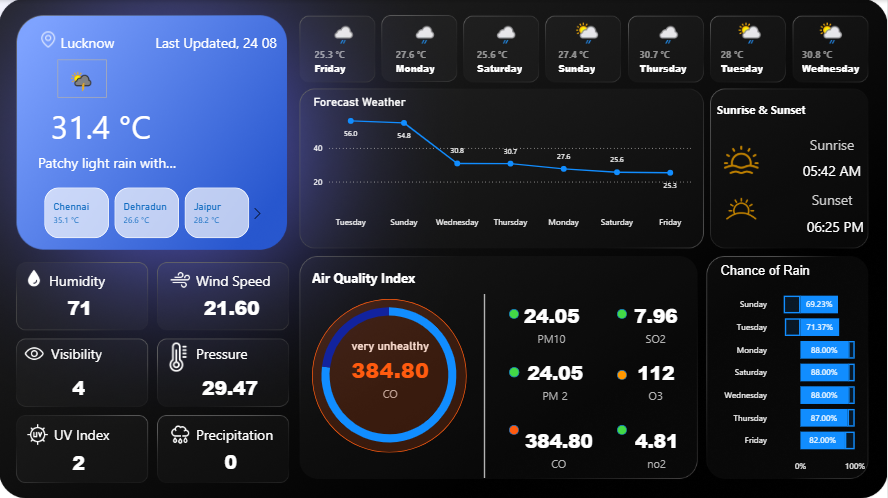

This screenshot's page, from the dashboard's own definition file:
{"tool":"powerbi","page":{"name":"Page 1","canvas":[1280,720],"ordinal":0},"visuals":[{"type":"advancedSlicerVisual","fields":{"Values":["locations.location.name"]},"box":[40.3,265,347,83.5],"z":0},{"type":"shape","box":[72,145.4,149.8,72],"z":1000},{"type":"shape","box":[40.3,40.3,174.2,40.3],"z":2000},{"type":"shape","box":[214.6,40.3,195.8,40.3],"z":3000},{"type":"image","box":[50.4,40.3,41.8,33.1],"z":4000},{"type":"shape","box":[56.2,207.4,227.5,51.8],"z":5000},{"type":"cardVisual","fields":{"Data":["Min(Current.current.condition.icon)"]},"box":[78.5,80.1,81.7,66],"z":6000},{"type":"image","box":[28.8,488.2,43.2,41.8],"z":7000},{"type":"shape","box":[74.9,488.2,106.6,40.3],"z":8000},{"type":"image","box":[28.8,383,43.2,34.6],"z":9000},{"type":"shape","box":[72,383,106.6,40.3],"z":10000},{"type":"image","box":[239,604.8,44.6,41.8],"z":11000},{"type":"image","box":[31.7,604.8,49,41.8],"z":12000},{"type":"image","box":[239,383,44.6,40.3],"z":13000},{"type":"image","box":[231.8,488.2,51.8,51.8],"z":14000},{"type":"shape","box":[79.2,604.8,106.6,40.3],"z":15000},{"type":"shape","box":[283.7,383,116.6,40.3],"z":16000},{"type":"shape","box":[283.7,488.2,99.4,40.3],"z":17000},{"type":"shape","box":[283.7,604.8,116.6,40.3],"z":18000},{"type":"card","fields":{"Values":["Sum(Current.current.humidity)"]},"box":[72.2,424,88,42.4],"z":19000},{"type":"card","fields":{"Values":["Sum(Current.current.wind_kph)"]},"box":[282.7,424,105.2,42.4],"z":20000},{"type":"card","fields":{"Values":["Sum(Current.current.pressure_in)"]},"box":[282.7,538.7,100.5,42.4],"z":21000},{"type":"card","fields":{"Values":["Sum(Current.current.precip_in)"]},"box":[289,645.5,88,42.4],"z":22000},{"type":"card","fields":{"Values":["Sum(Current.current.uv)"]},"box":[70.7,647.1,88,42.4],"z":23000},{"type":"card","fields":{"Values":["Sum(Current.current.vis_km)"]},"box":[70.7,538.7,88,42.4],"z":24000},{"type":"advancedSlicerVisual","fields":{"Values":["Forecast_Day.Day_Name"]},"box":[436.6,22,824.5,91.1],"z":25000},{"type":"lineChart","title":"Forecast Weather","fields":{"Category":["Forecast_Day.Day_Name"],"Y":["Sum(Forecast_Day.forecast.forecastday.day.avgtemp_c)"]},"box":[447.6,136.6,554.4,201],"z":26000},{"type":"shape","box":[1033.4,136.6,190,40.8],"z":27000},{"type":"shape","box":[1133.9,218.3,131.9,51.8],"z":28000},{"type":"shape","box":[1148.1,306.3,113.1,39.3],"z":29000},{"type":"shape","box":[1148.1,191.6,103.7,31.4],"z":30000},{"type":"shape","box":[1135.5,270.1,127.2,31.4],"z":31000},{"type":"image","box":[1033.4,267,70.7,67.5],"z":32000},{"type":"image","box":[1033.4,199.5,69.1,59.7],"z":33000},{"type":"hundredPercentStackedBarChart","title":"Chance of Rain","fields":{"Y":["Sum(Forecast_Day.forecast.forecastday.day.daily_chance_of_rain)","Current.left_value_Rain"],"Category":["Forecast_Day.Day_Name"]},"box":[1033.4,378.5,218.3,311],"z":34000},{"type":"shape","box":[450.7,380.1,190,40.8],"z":35000},{"type":"card","fields":{"Values":["Sum(Current.current.air_quality.so2)"]},"box":[890.5,430.3,111.5,70.7],"z":36000},{"type":"card","fields":{"Values":["Sum(Current.current.air_quality.pm10)"]},"box":[741.6,430.6,108,70.6],"z":37000},{"type":"card","fields":{"Values":["Sum(Current.current.air_quality.pm2_5)"]},"box":[751.7,515.5,97.9,66.2],"z":38000},{"type":"card","fields":{"Values":["Sum(Current.current.air_quality.o3)"]},"box":[890.5,515.1,111.5,66],"z":39000},{"type":"card","fields":{"Values":["Sum(Current.current.air_quality.co)"]},"box":[752.1,604.6,108.5,82.4],"z":40000},{"type":"card","fields":{"Values":["Sum(Current.current.air_quality.no2)"]},"box":[890.9,604.6,111.4,82.4],"z":41000},{"type":"shape","box":[673.9,423.4,50.4,265],"z":42000},{"type":"shape","box":[734.4,445,14.4,14.4],"z":43000},{"type":"shape","box":[734.4,528.5,15,15],"z":44000},{"type":"shape","box":[734.4,612,14.4,14.4],"z":45000},{"type":"shape","box":[889.9,445,14.4,14.4],"z":46000},{"type":"shape","box":[889.9,532.8,14.4,14.4],"z":47000},{"type":"shape","box":[889.9,612,14.4,14.4],"z":48000},{"type":"card","fields":{"Values":["Sum(Current.current.air_quality.co)"]},"box":[496.1,488.9,133.1,92.6],"z":49000},{"type":"shape","box":[451.3,431,222.7,221.3],"z":50000},{"type":"donutChart","fields":{"Y":["Sum(Current.current.air_quality.co)","_measures.Left_value_CO"]},"box":[431,413.6,261.8,253.1],"z":51000}]}

Visuals, with their boxes in screenshot pixels (x1, y1, x2, y2), scaled from the page's 1280x720 canvas onto the 888x498 screenshot:
advancedSlicerVisual - locations.location.name: 28:183:269:241
shape: 50:101:154:150
shape: 28:28:149:56
shape: 149:28:285:56
image: 35:28:64:51
shape: 39:143:197:179
cardVisual - Min(Current.current.condition.icon): 54:55:111:101
image: 20:338:50:367
shape: 52:338:126:366
image: 20:265:50:289
shape: 50:265:124:293
image: 166:418:197:447
image: 22:418:56:447
image: 166:265:197:293
image: 161:338:197:374
shape: 55:418:129:446
shape: 197:265:278:293
shape: 197:338:266:366
shape: 197:418:278:446
card - Sum(Current.current.humidity): 50:293:111:323
card - Sum(Current.current.wind_kph): 196:293:269:323
card - Sum(Current.current.pressure_in): 196:373:266:402
card - Sum(Current.current.precip_in): 200:446:262:476
card - Sum(Current.current.uv): 49:448:110:477
card - Sum(Current.current.vis_km): 49:373:110:402
advancedSlicerVisual - Forecast_Day.Day_Name: 303:15:875:78
"Forecast Weather" lineChart: 311:94:695:234
shape: 717:94:849:123
shape: 787:151:878:187
shape: 796:212:875:239
shape: 796:133:868:154
shape: 788:187:876:209
image: 717:185:766:231
image: 717:138:765:179
"Chance of Rain" hundredPercentStackedBarChart: 717:262:868:477
shape: 313:263:444:291
card - Sum(Current.current.air_quality.so2): 618:298:695:347
card - Sum(Current.current.air_quality.pm10): 514:298:589:347
card - Sum(Current.current.air_quality.pm2_5): 521:357:589:402
card - Sum(Current.current.air_quality.o3): 618:356:695:402
card - Sum(Current.current.air_quality.co): 522:418:597:475
card - Sum(Current.current.air_quality.no2): 618:418:695:475
shape: 468:293:502:476
shape: 509:308:519:318
shape: 509:366:520:376
shape: 509:423:519:433
shape: 617:308:627:318
shape: 617:369:627:378
shape: 617:423:627:433
card - Sum(Current.current.air_quality.co): 344:338:437:402
shape: 313:298:468:451
donutChart - Sum(Current.current.air_quality.co) x _measures.Left_value_CO: 299:286:481:461
